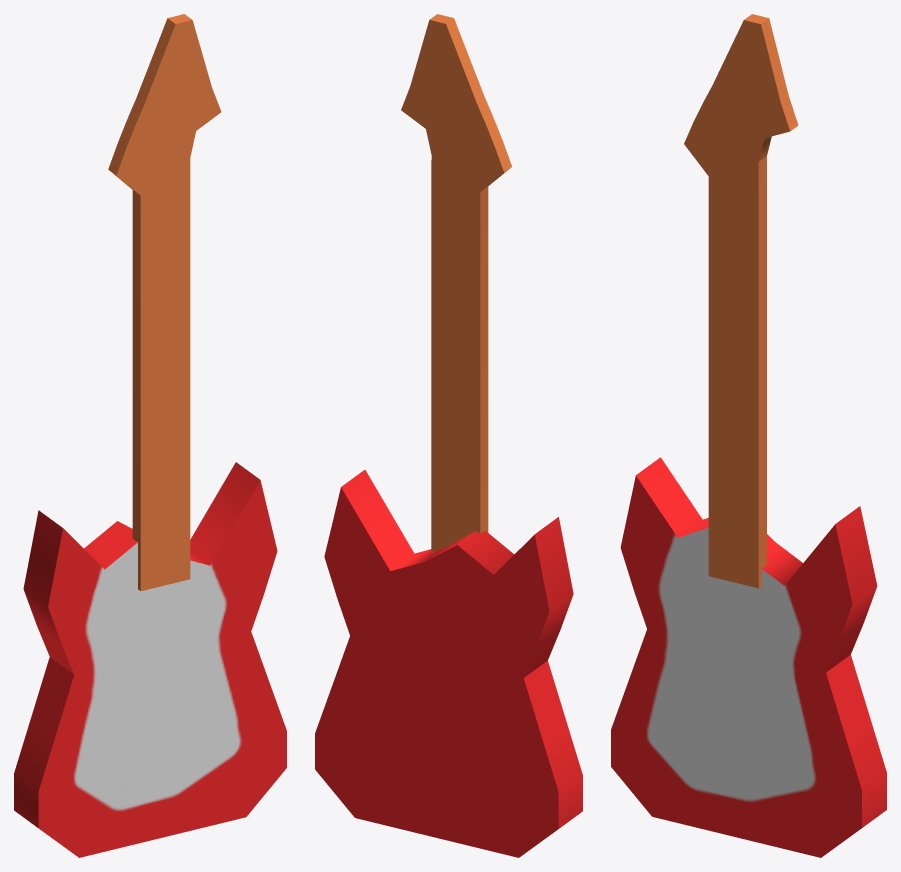
The model's file is Guitar2FBX.fbx.
The picture shows the model from 3 angles, left to right: view 1: azimuth 30°, elevation 25°; view 2: azimuth 150°, elevation 25°; view 3: azimuth 330°, elevation 25°; orthographic projection. The views are drawn at different scales.
Parts seen in each view (by area): view 1: Guitar; view 2: Guitar; view 3: Guitar.
Part boxes in pixels (x1,y1,x2,y2): Guitar: (14, 14, 286, 857); Guitar: (315, 14, 582, 857); Guitar: (611, 14, 886, 857).
Bounding box in the file's own units: 3.5 × 10.95 × 0.6696.
